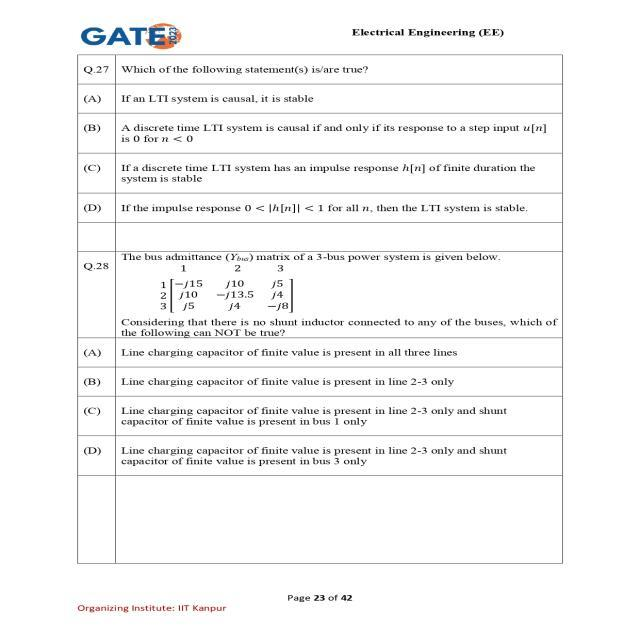Answer_Block: (80, 338, 558, 472), (80, 86, 556, 219)
Question_Answer_Block: (78, 251, 560, 475), (78, 58, 560, 222)
Question_Block: (80, 252, 556, 335), (81, 58, 557, 82)
Question_Paper_Area: (76, 56, 560, 562)
